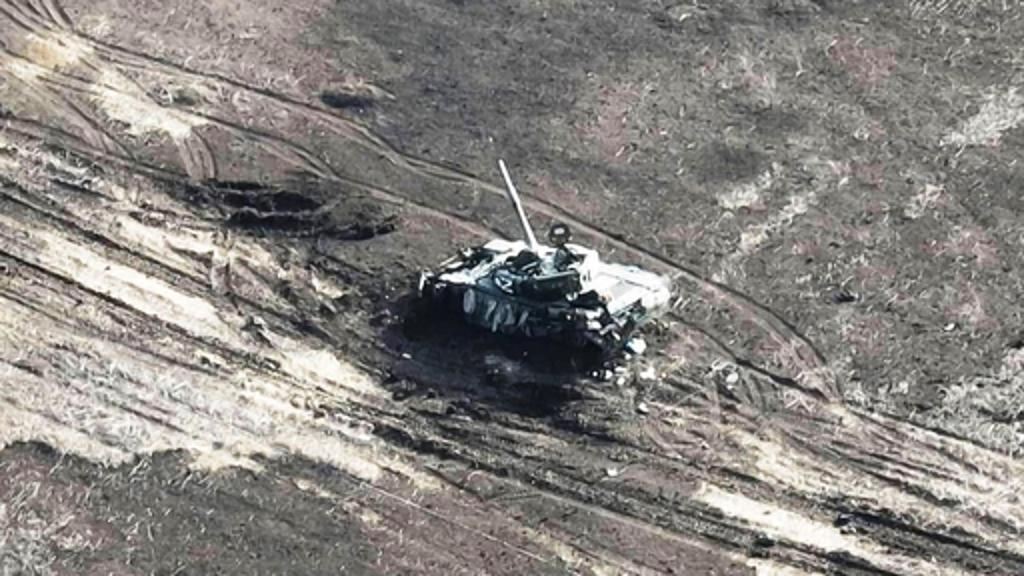TANK: (416, 154, 674, 368)
